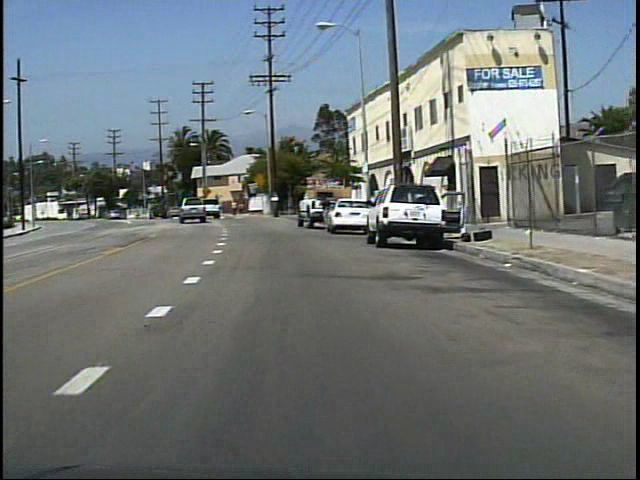person: (317, 192, 336, 234), (230, 198, 240, 219), (239, 201, 247, 218)
